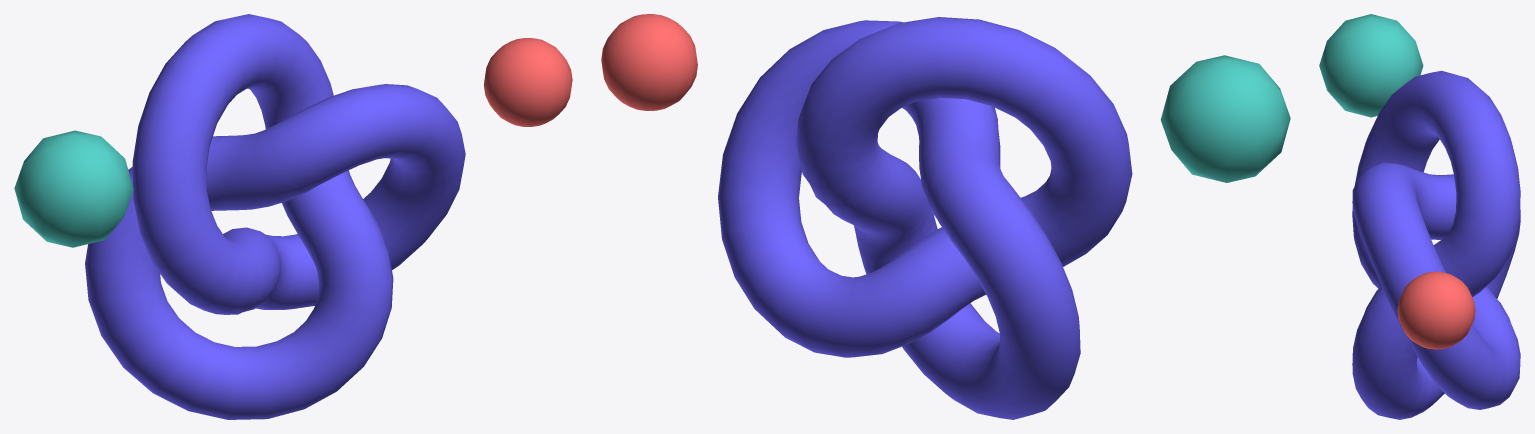
3 views of the same model, side by side, from view 1: azimuth 30°, elevation 25°; view 2: azimuth 150°, elevation 25°; view 3: azimuth 270°, elevation 25° (orthographic). The views are drawn at different scales.
Bounding box in the file's own units: 4.5 × 2.74 × 1.55.
